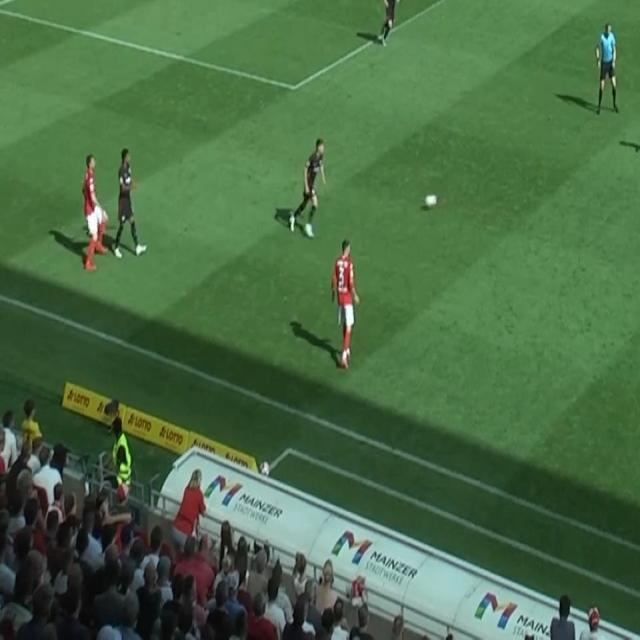ball: (424, 193, 437, 208)
